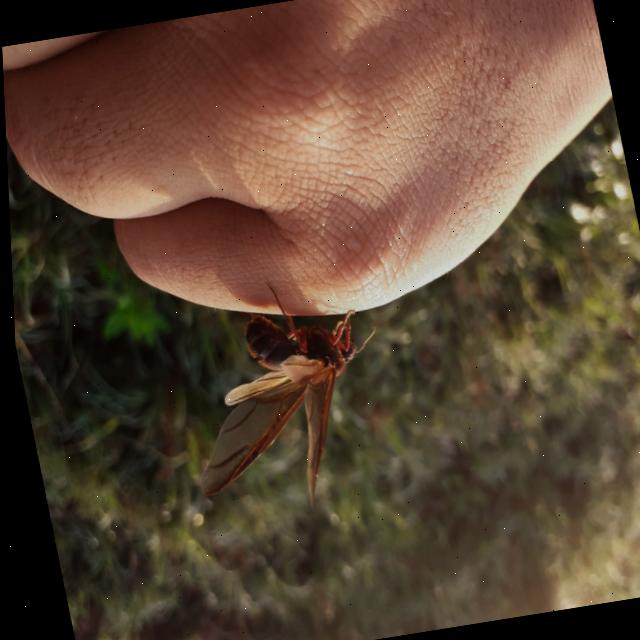Alive-Female-Alate: (159, 268, 405, 526)
